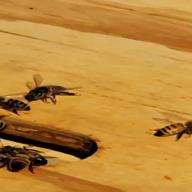Bee: (12, 80, 73, 108), (151, 116, 192, 141)
